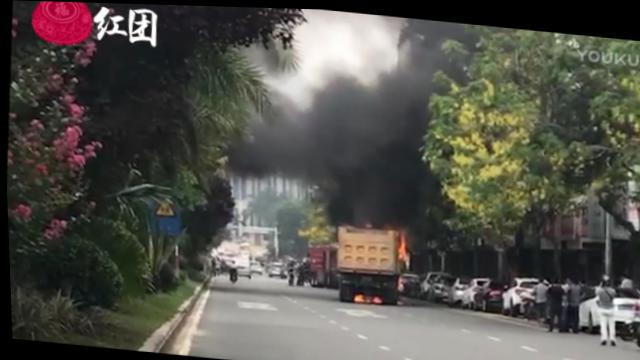fire: (351, 292, 379, 303), (393, 230, 403, 256)
